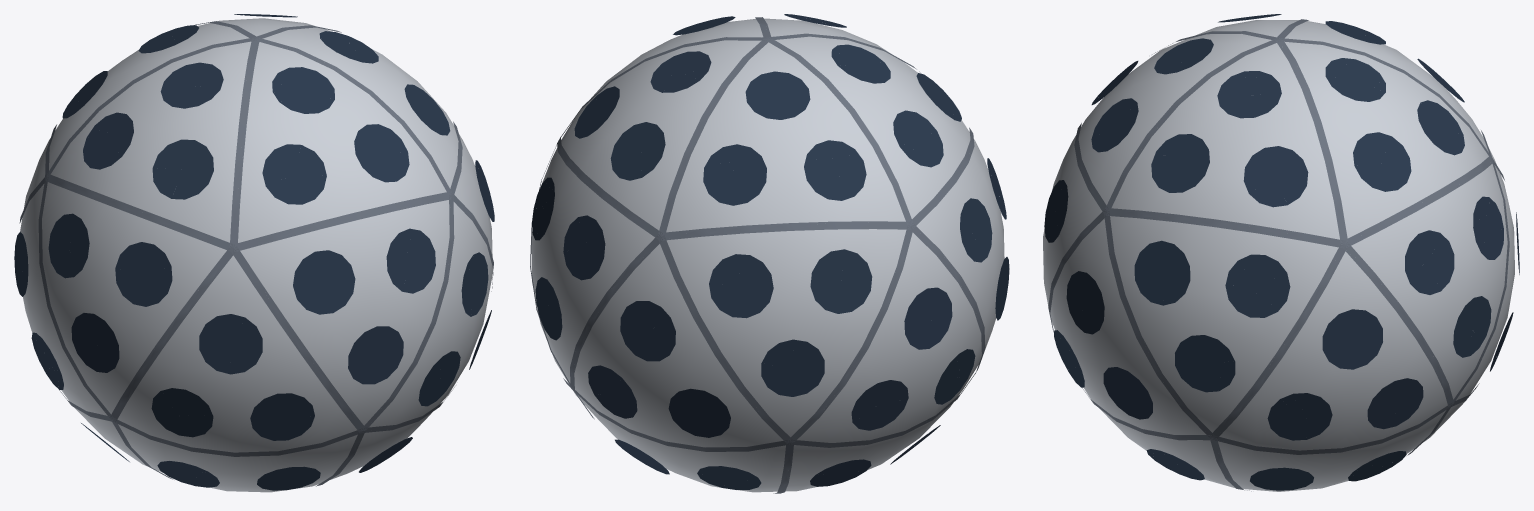
The model's file is starlette.glb.
3 views of the same model, side by side, from view 1: azimuth 30°, elevation 25°; view 2: azimuth 150°, elevation 25°; view 3: azimuth 270°, elevation 25° (orthographic).
Visible parts, largest first — view 1: body, solar-panel; view 2: body, solar-panel; view 3: body, solar-panel.
Part boxes in pixels (x1,y1,x2,y2): body: (19, 18, 493, 492); solar-panel: (14, 14, 494, 490); body: (530, 17, 1004, 493); solar-panel: (532, 14, 1009, 489); body: (1043, 19, 1514, 491); solar-panel: (1044, 14, 1519, 490).
Bounding box in the file's own units: 0.2412 × 0.2412 × 0.2439.
